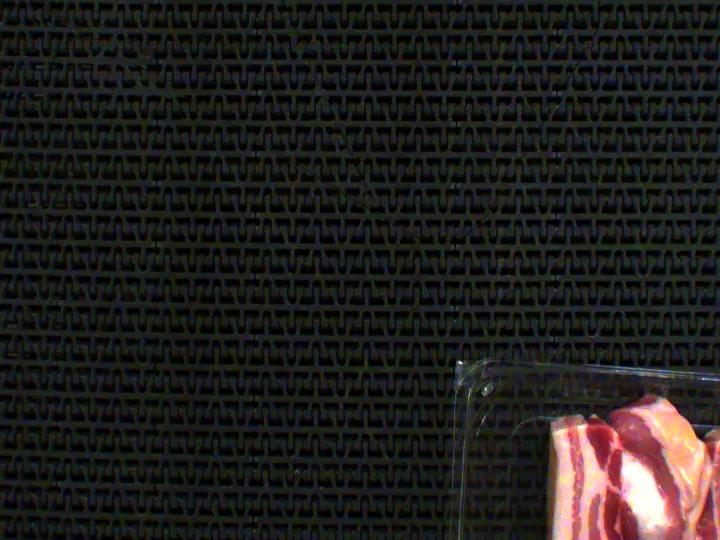packaging-error: (639, 372, 679, 407)
